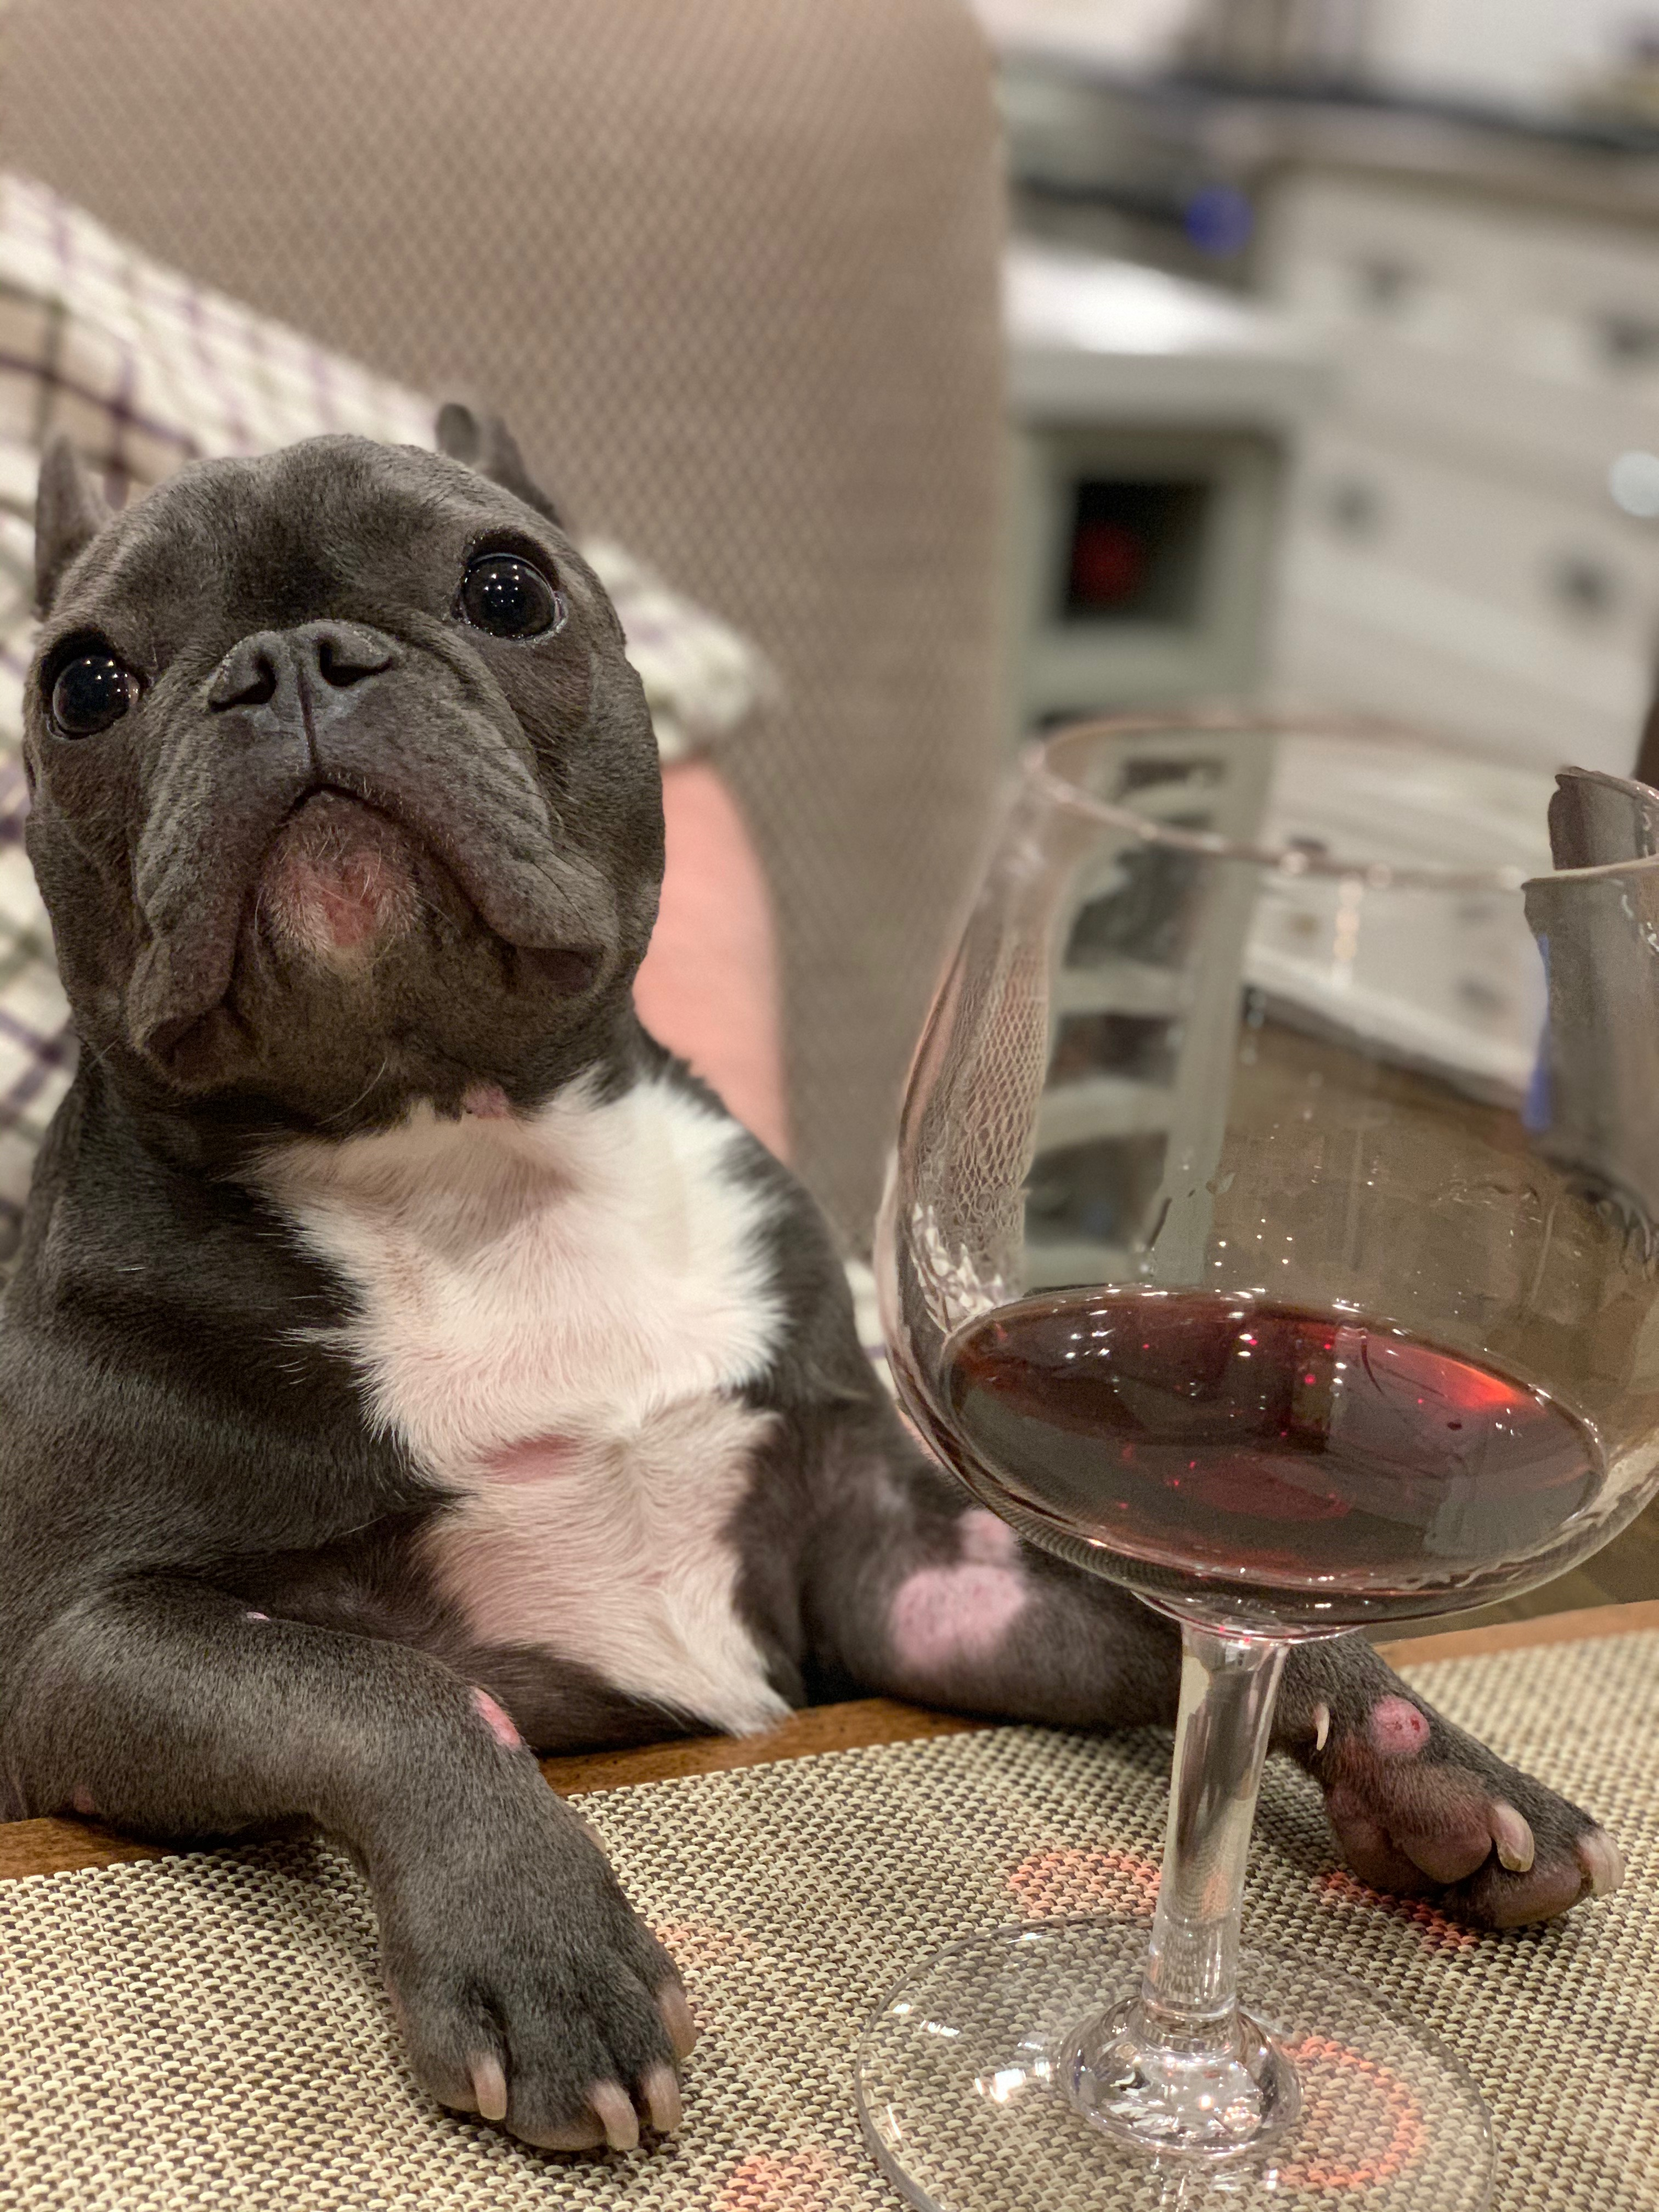lucy: (17, 401, 1640, 2179)
